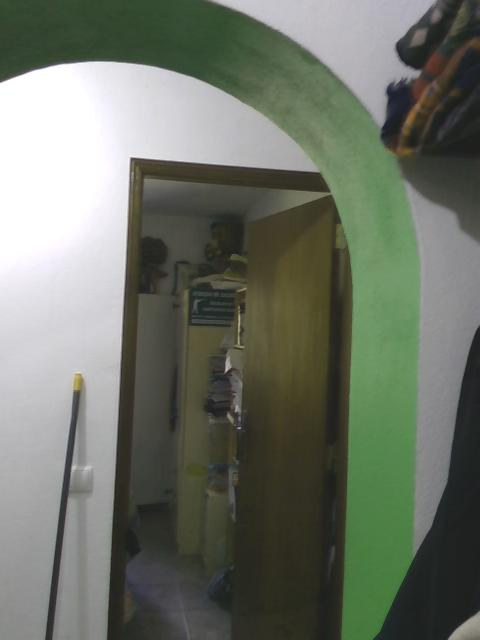open_door: (107, 156, 355, 639)
